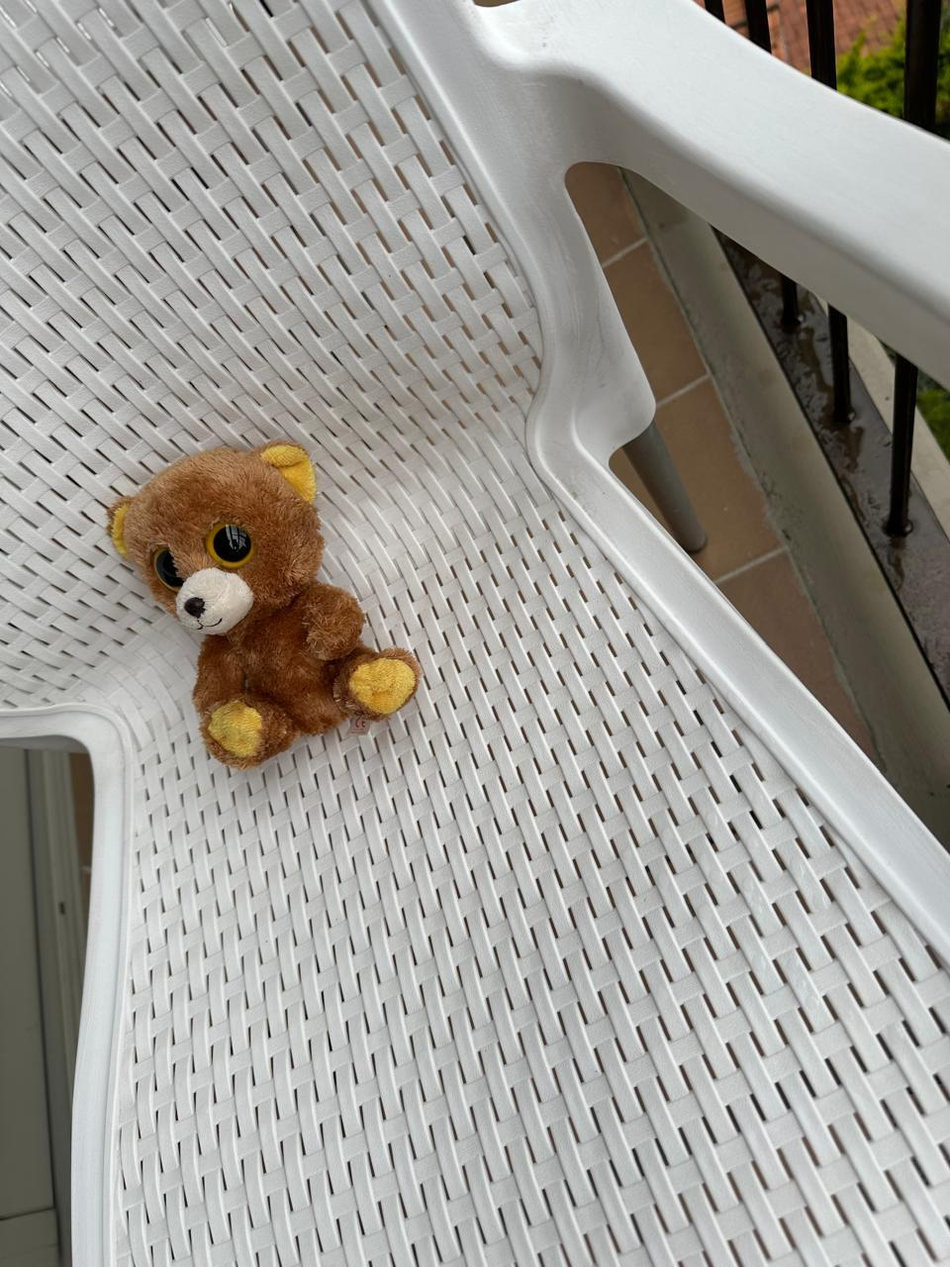peluche_sebastian: (99, 443, 421, 772)
